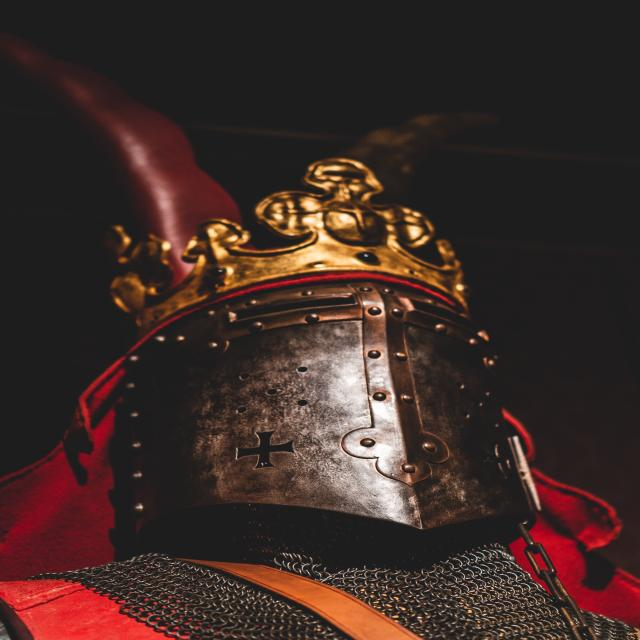Metal: (0, 158, 612, 640)
